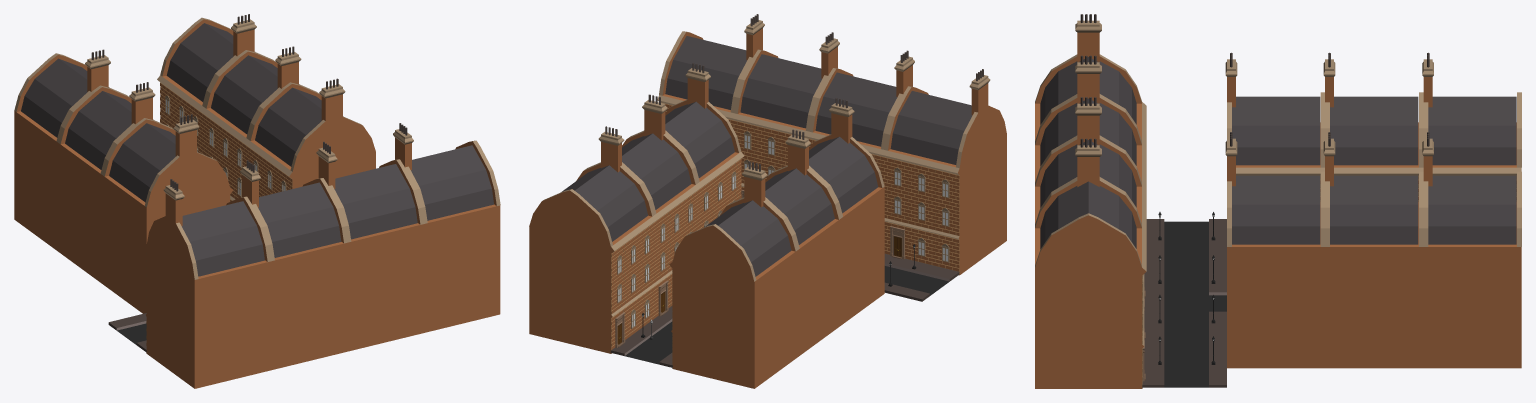
The model's file is london_street.fbx.
The picture shows the model from 3 angles, left to right: view 1: azimuth 30°, elevation 25°; view 2: azimuth 150°, elevation 25°; view 3: azimuth 270°, elevation 25°; orthographic projection. The views are drawn at different scales.
Visible parts, largest first — view 1: Buildings.005, Buildings.002, Buildings.004, Buildings.003, Buildings.006, Buildings.001, Buildings, Buildings_Detaiö.002, Chimney, Buildings_Detaiö.005, Buildings_Detaiö, Buildings_Detaiö.001 (+12 smaller); view 2: Buildings, Buildings.001, Buildings.002, Buildings.005, Buildings_Detaiö, Bricks.005, Chimney, Buildings.003, Street, Buildings.004, Buildings.006, Bricks.002 (+17 smaller); view 3: Buildings.001, Buildings, Buildings.002, Buildings.006, Street, Buildings_Detaiö.006, Buildings.003, Chimney, Buildings.005, Buildings.004, Buildings_Detaiö, Buildings_Detaiö.001 (+9 smaller).
Boxes of the visible parts, <box> form: Buildings.005: <box>145,201,271,388</box>; Buildings.002: <box>102,87,375,313</box>; Buildings.004: <box>258,182,347,370</box>; Buildings.003: <box>334,164,423,351</box>; Buildings.006: <box>411,145,500,332</box>; Buildings.001: <box>58,55,277,283</box>; Buildings: <box>14,23,233,251</box>; Buildings_Detaiö.002: <box>103,82,375,207</box>; Chimney: <box>85,14,345,162</box>; Buildings_Detaiö.005: <box>146,196,271,279</box>; Buildings_Detaiö: <box>14,17,273,142</box>; Buildings_Detaiö.001: <box>58,50,317,174</box>; Buildings: <box>529,165,797,388</box>; Buildings.001: <box>622,133,841,356</box>; Buildings.002: <box>665,101,884,324</box>; Buildings.005: <box>882,91,1006,274</box>; Buildings_Detaiö: <box>529,163,797,281</box>; Bricks.005: <box>884,157,959,275</box>; Chimney: <box>598,62,854,207</box>; Buildings.003: <box>732,54,821,186</box>; Street: <box>610,254,959,367</box>; Buildings.004: <box>807,72,897,156</box>; Buildings.006: <box>657,36,746,120</box>; Bricks.002: <box>611,222,672,368</box>; Buildings.001: <box>1325,96,1423,368</box>; Buildings: <box>1423,96,1521,368</box>; Buildings.002: <box>1227,96,1324,368</box>; Buildings.006: <box>1035,181,1146,388</box>; Street: <box>1142,219,1226,387</box>; Buildings_Detaiö.006: <box>1035,179,1141,267</box>; Buildings.003: <box>1035,140,1146,304</box>; Chimney: <box>1225,52,1433,186</box>; Buildings.005: <box>1035,57,1146,146</box>; Buildings.004: <box>1035,98,1146,188</box>; Buildings_Detaiö: <box>1423,92,1521,246</box>; Buildings_Detaiö.001: <box>1325,92,1423,246</box>.
Size of the model in its own units: 8840 by 5200 by 10910.
